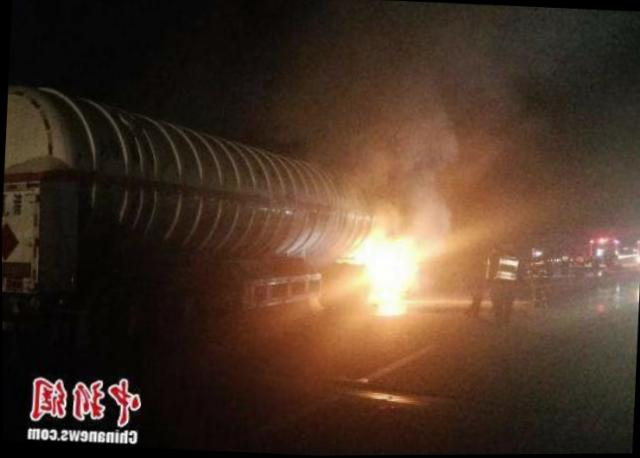fire: (348, 222, 419, 318)
